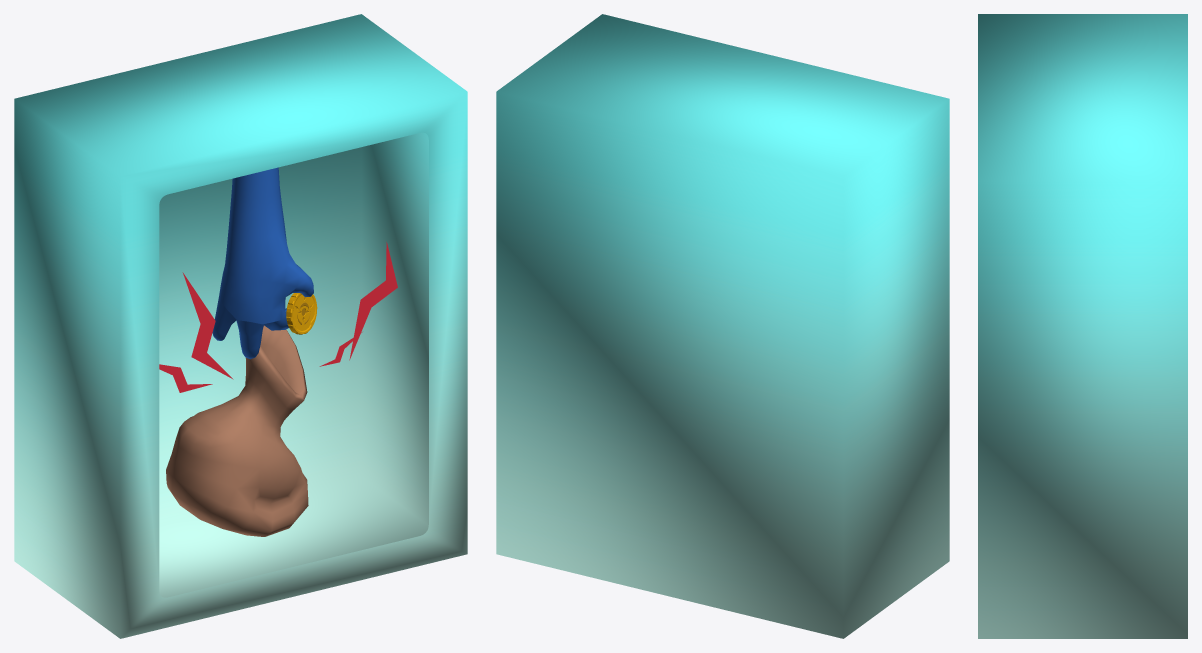
Rendered from 5_Steal.gltf.
3 renders of one model, left to right at view 1: azimuth 30°, elevation 25°; view 2: azimuth 150°, elevation 25°; view 3: azimuth 270°, elevation 25°, orthographic.
Parts seen in each view (by area): view 1: 5_Steal_bg, 5_Steal; view 2: 5_Steal_bg; view 3: 5_Steal_bg.
Part boxes in pixels (x1=…): 5_Steal_bg: x1=14, y1=14, x2=467, y2=638; 5_Steal: x1=159, y1=167, x2=397, y2=536; 5_Steal_bg: x1=496, y1=14, x2=949, y2=638; 5_Steal_bg: x1=978, y1=14, x2=1187, y2=638.
Bounding box in the file's own units: 2.76 × 3.51 × 1.46.
Materials: 2 (2 with a texture image).
